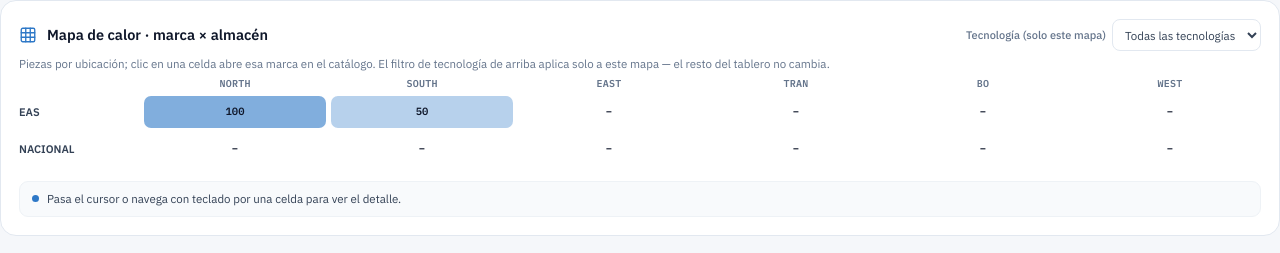
Test case: DashboardHeatmapCard › hover/focus en una celda actualiza el caption; mouseLeave del grid lo limpia
The width and height of the screenshot is (1280, 253).
Expected: the text "Pasa el cursor o navega con teclado por una celda para ver el detalle." is shown, [19,181,1261,217]
Hover over the button named "EAS · NORTH: 100 piezas".
mouse_move(235, 112)  # box [144,96,326,128]
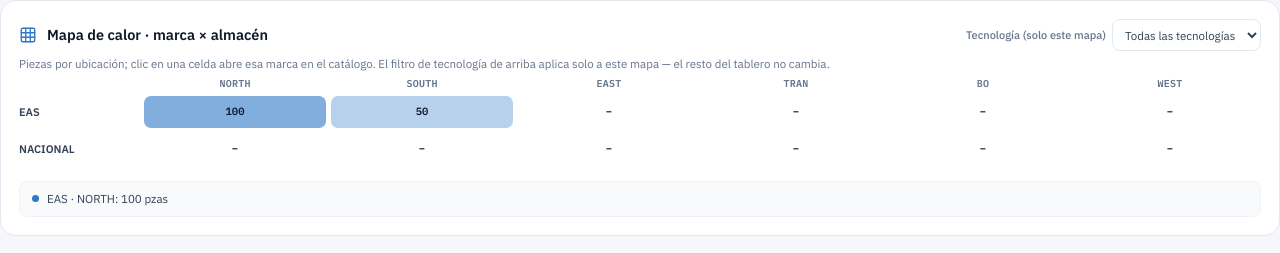
Expected: the text "EAS · NORTH: 100 pzas" is shown, [19,181,1261,217]
Move the pointer off the element that starts with "NORTH", box [19,76,1261,165]
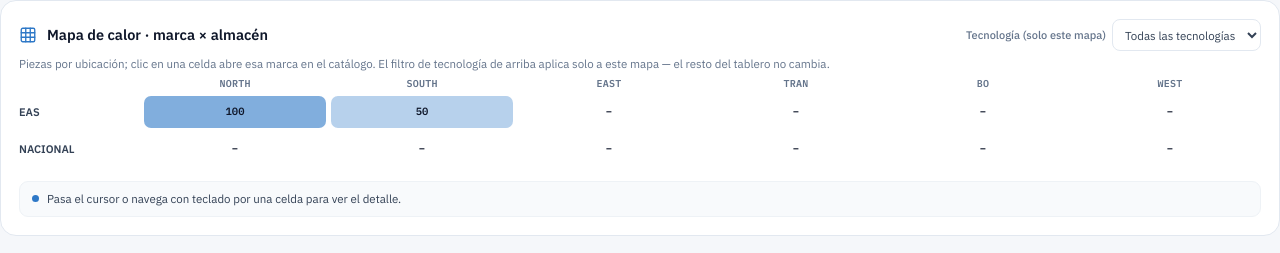
Expected: the text "Pasa el cursor o navega con teclado por una celda para ver el detalle." is shown, [19,181,1261,217]
Focus the button named "EAS · NORTH: 100 piezas" at point(235, 112), box [144,96,326,128]
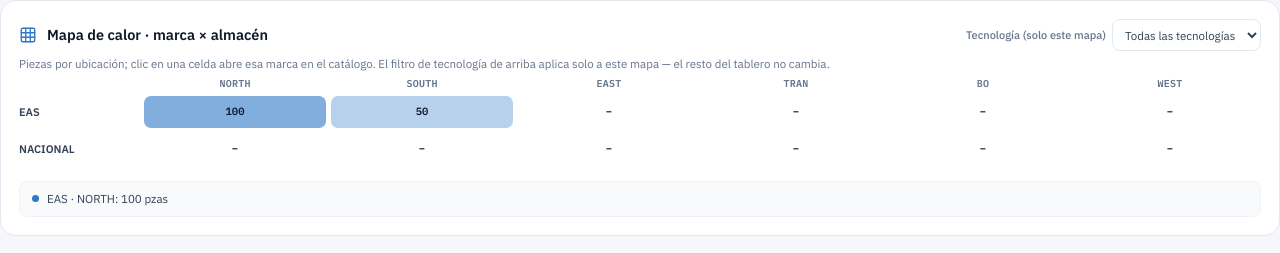
Expected: the text "EAS · NORTH: 100 pzas" is shown, [19,181,1261,217]
